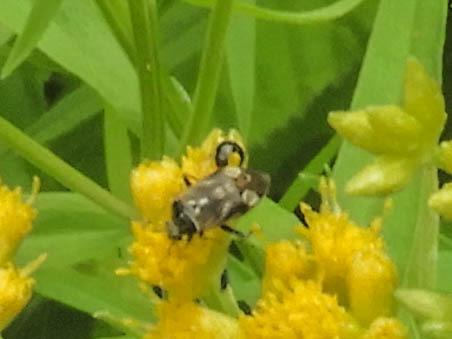plant_bugs: (155, 147, 285, 260)
